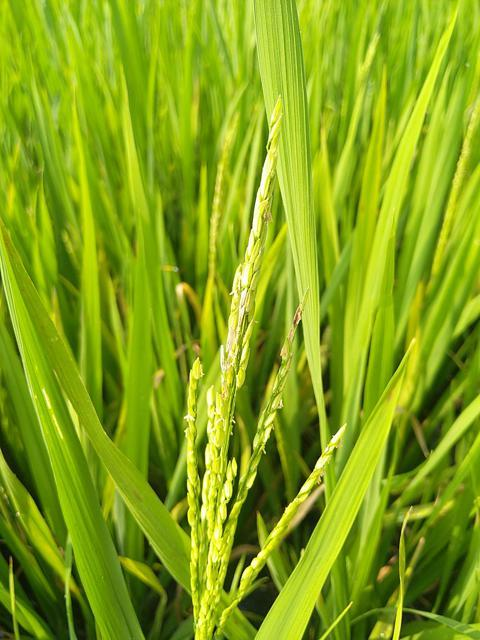Panicle Blight: (279, 304, 301, 378)
